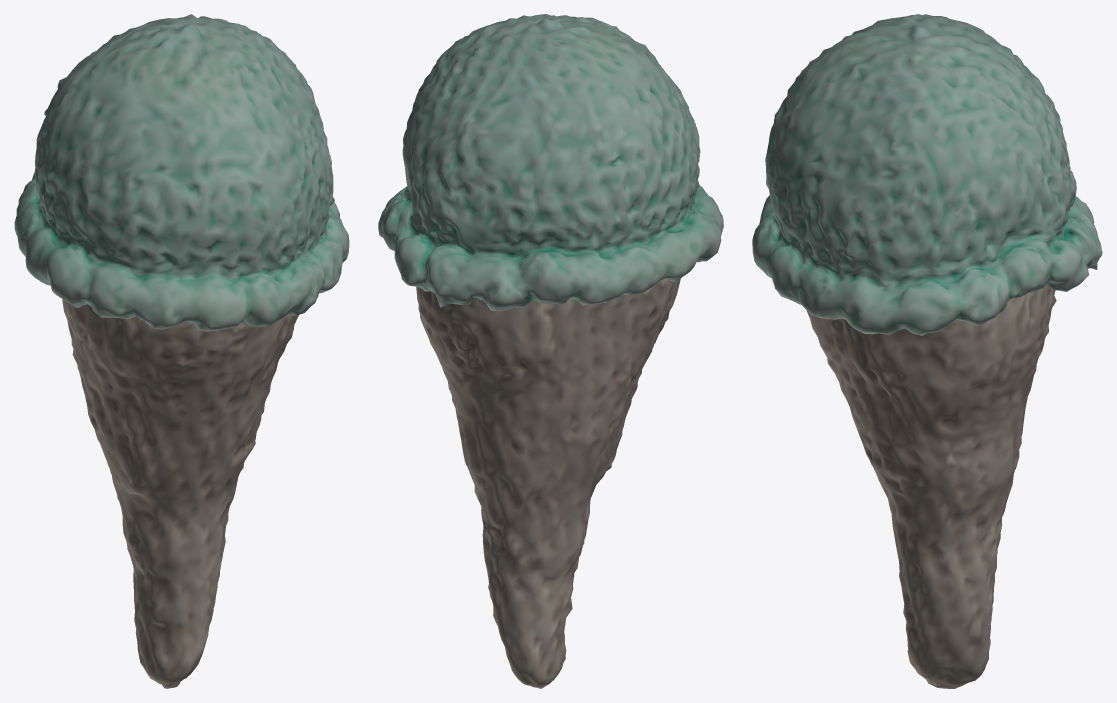
The picture shows the model from 3 angles, left to right: view 1: azimuth 30°, elevation 25°; view 2: azimuth 150°, elevation 25°; view 3: azimuth 270°, elevation 25°; orthographic projection. The views are drawn at different scales.
Parts seen in each view (by area): view 1: KIC_RC01_ZB04; view 2: KIC_RC01_ZB04; view 3: KIC_RC01_ZB04.
Part boxes in pixels (x1=…): KIC_RC01_ZB04: x1=14, y1=14, x2=349, y2=688; KIC_RC01_ZB04: x1=378, y1=14, x2=723, y2=688; KIC_RC01_ZB04: x1=752, y1=14, x2=1102, y2=688.
Bounding box in the file's own units: 18.93 × 40.13 × 19.12.
